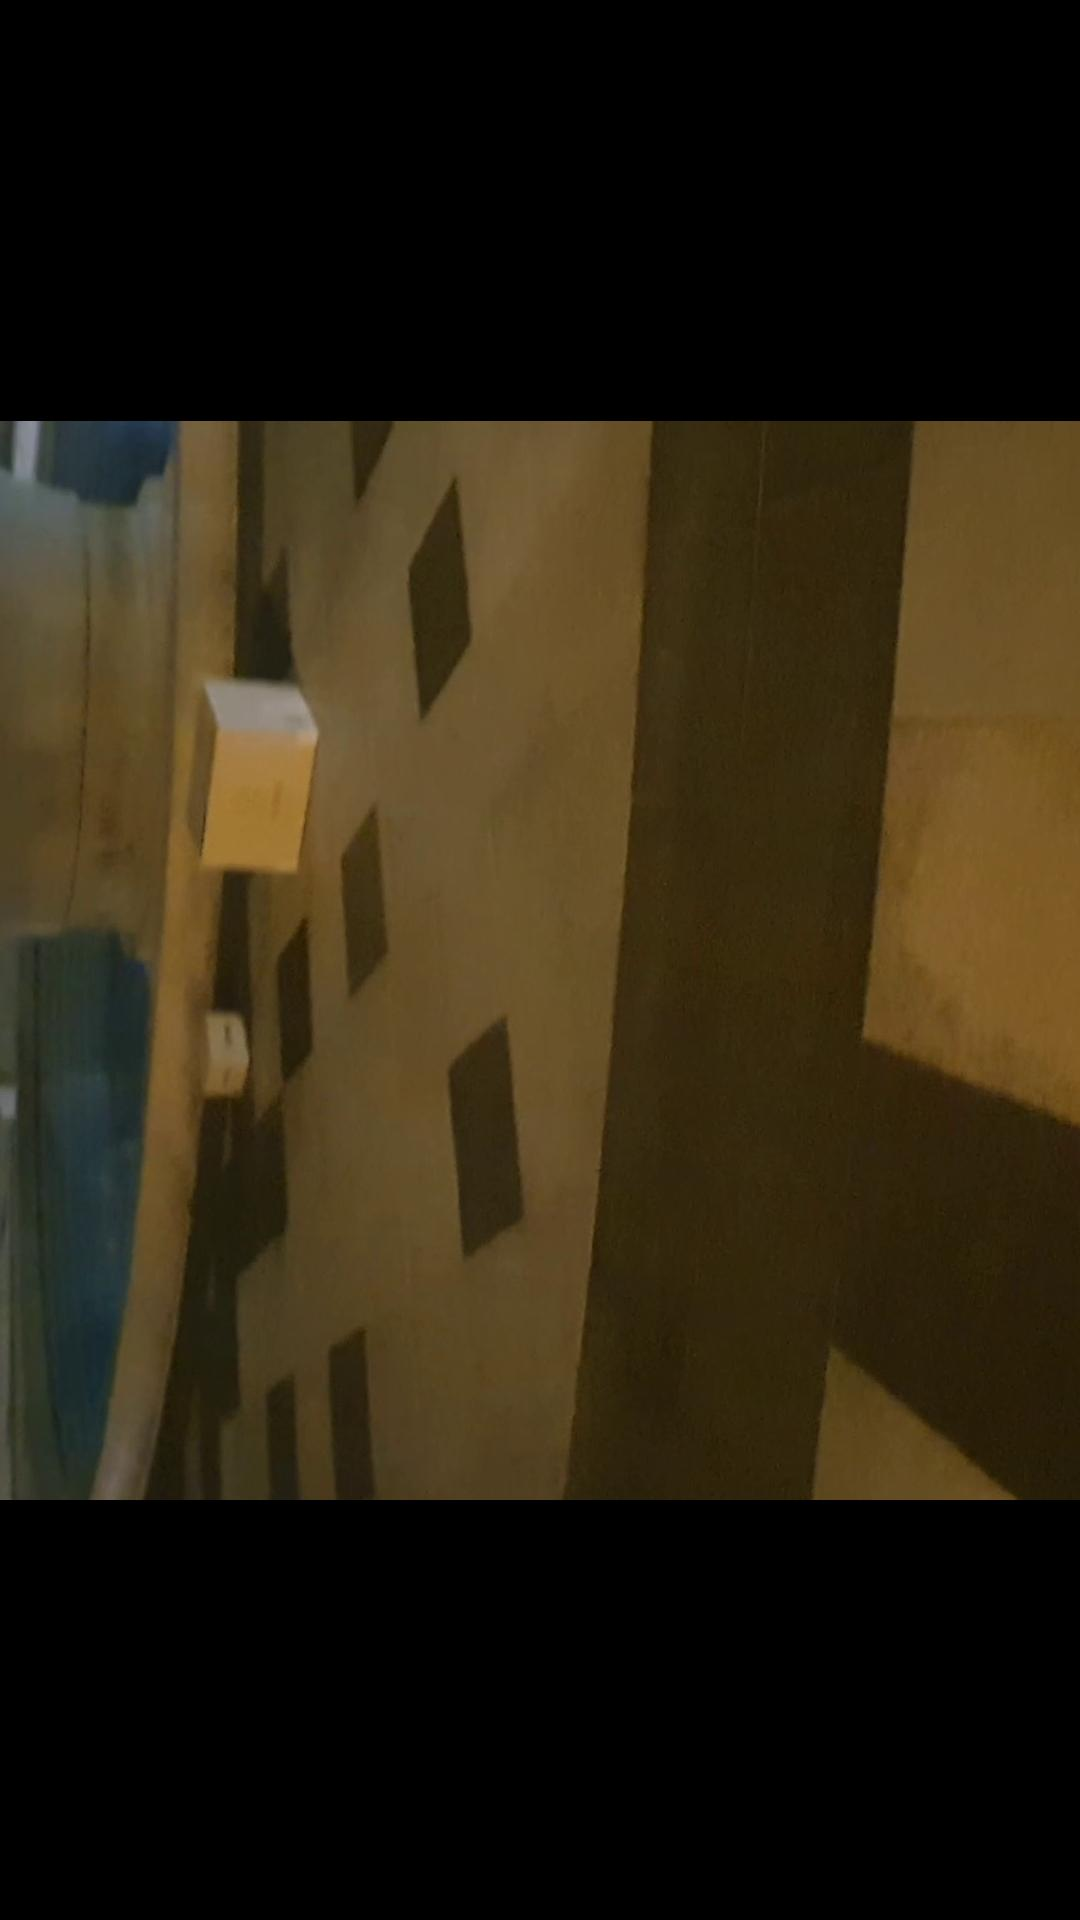Box: (178, 678, 318, 869), (195, 1005, 251, 1102)
